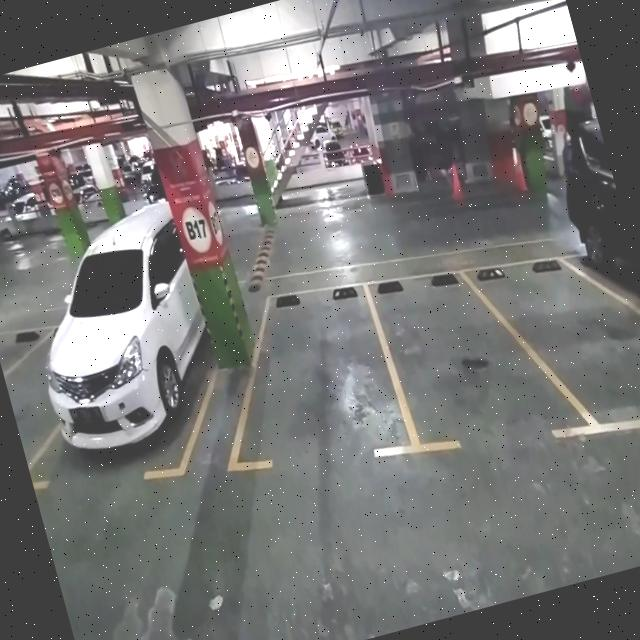empty: (366, 246, 567, 477), (205, 274, 414, 493), (506, 231, 640, 448)
occupied: (8, 248, 223, 507)
